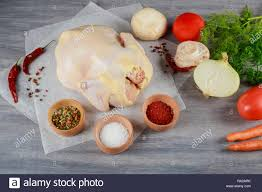Carrots: (226, 131, 262, 150)
Chicken: (59, 23, 152, 104)
Lettuce: (205, 11, 261, 60)
Onion: (197, 51, 242, 102)
